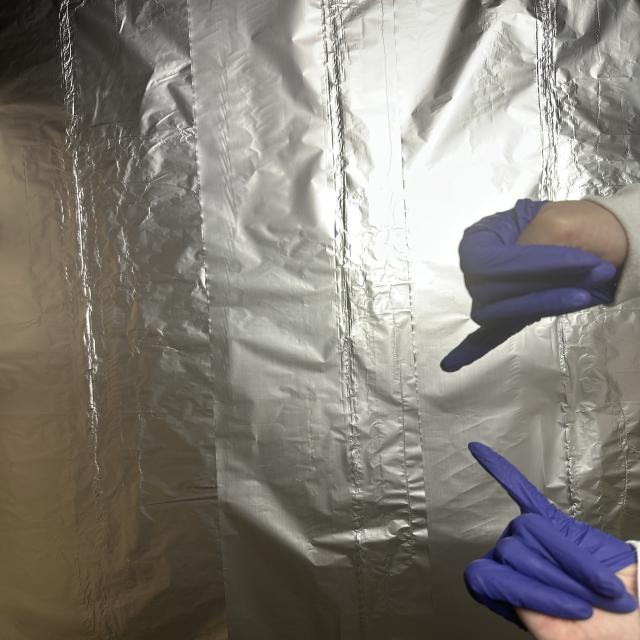glove_partial: (458, 439, 640, 640), (434, 190, 627, 377)
